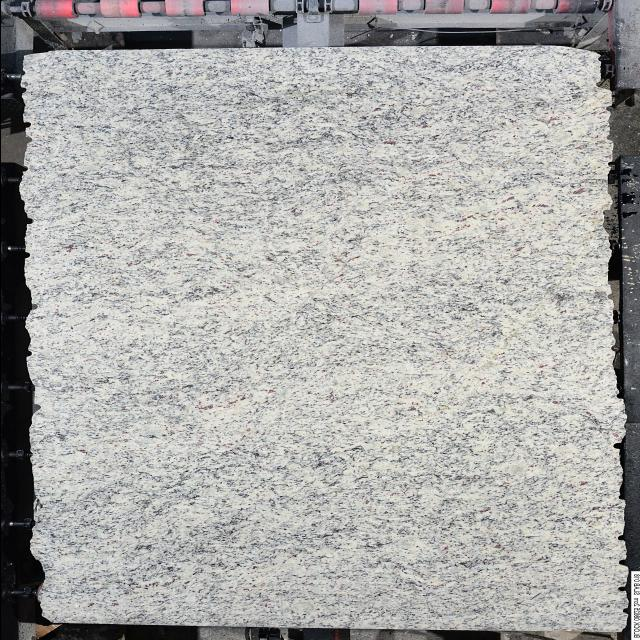chapa: (18, 46, 623, 630)
veio: (614, 558, 630, 568), (22, 216, 36, 226), (18, 164, 32, 174), (613, 534, 627, 544), (30, 402, 42, 412), (27, 301, 39, 311), (19, 250, 33, 258), (20, 136, 34, 144), (612, 442, 624, 451), (602, 104, 614, 112), (616, 586, 628, 594), (24, 350, 35, 358), (22, 120, 32, 128)
